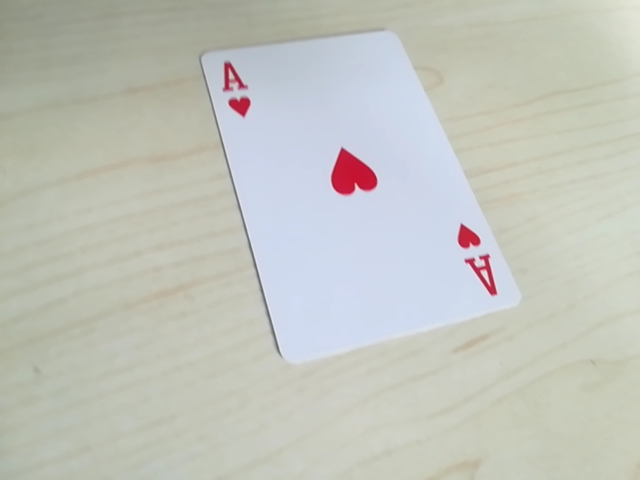hx a: (456, 220, 501, 302), (208, 57, 251, 130)
